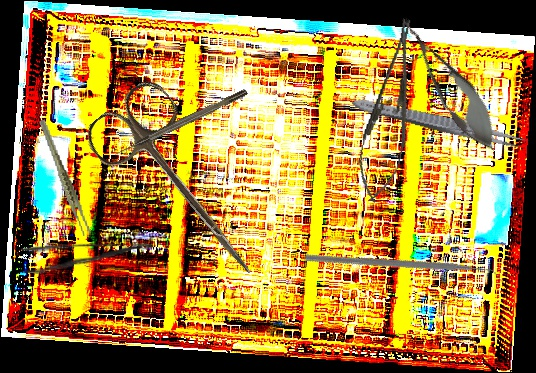Chopper: (302, 178, 506, 362)
Dressing Forceps: (349, 93, 531, 153), (20, 240, 156, 275)
Hook Surgical: (113, 88, 249, 158)
Iris Scissors: (78, 74, 290, 300)
Micro Scissor: (387, 7, 511, 161)
Needle Holder: (350, 14, 430, 207)
Tissue Forceps: (38, 115, 92, 241)
